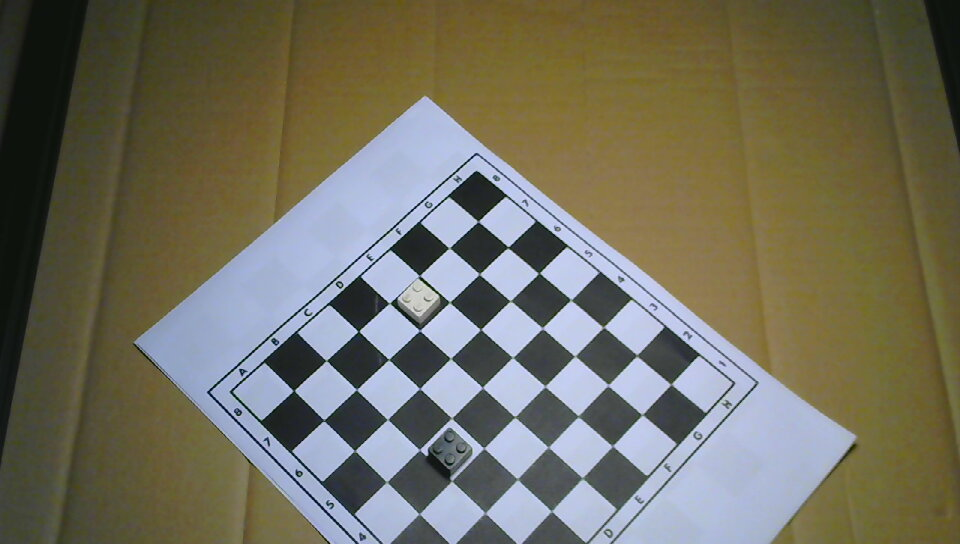bp: (427, 427, 473, 476)
wp: (396, 279, 440, 323)
